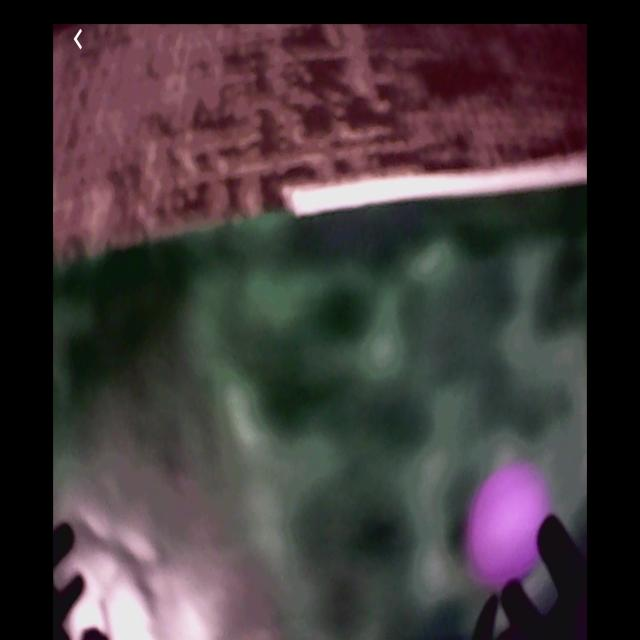ball: (470, 464, 547, 588)
